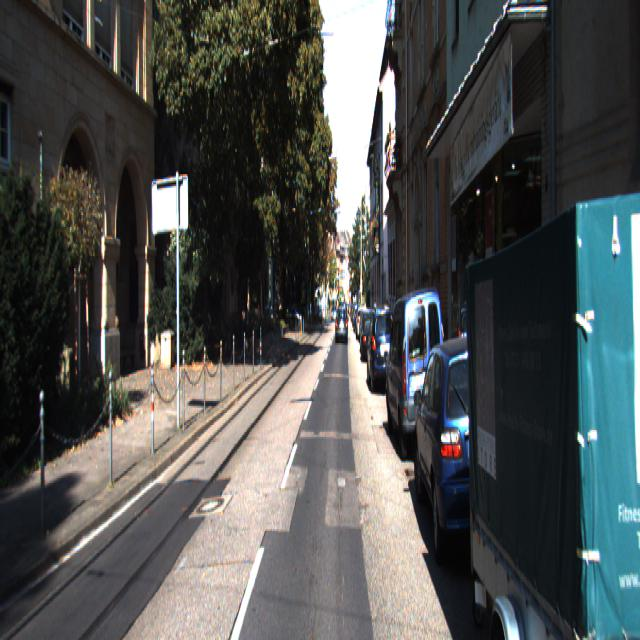Car: (460, 154, 640, 638), (414, 322, 528, 594), (385, 282, 449, 467), (367, 302, 400, 396), (361, 312, 379, 362), (336, 305, 348, 344)
